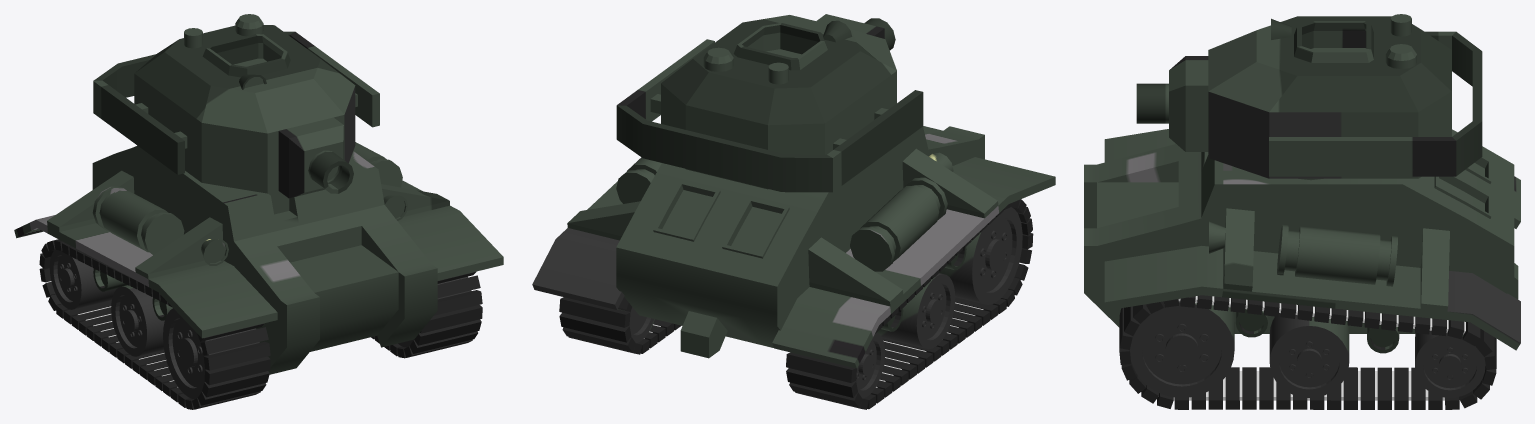
File: Tank_Body.fbx
3 renders of one model, left to right at view 1: azimuth 30°, elevation 25°; view 2: azimuth 150°, elevation 25°; view 3: azimuth 270°, elevation 25°, orthographic. The views are drawn at different scales.
Parts seen in each view (by area): view 1: TankHead, TankBody, RightDuct, LeftDuct, WheelFront, WheelMiddle, WheelBack, RightTrack007, RightTrack006, RightTrack008, LeftTrack006, RightTrack005 (+5 smaller); view 2: TankHead, TankBody, RightDuct, LeftDuct, WheelFront, WheelMiddle, WheelBack, LeftTrack031, RightTrack031, LeftTrack032, RightTrack032, RightTrack033 (+1 smaller); view 3: TankHead, TankBody, LeftDuct, WheelFront, WheelMiddle, WheelBack, RightDuct, Base, RollFront, RollBack, LeftTrack038, LeftTrack047 (+6 smaller).
Boxes of the visible parts, <box> form: TankHead: <box>93,14,379,198</box>; TankBody: <box>92,145,437,374</box>; RightDuct: <box>14,170,277,338</box>; LeftDuct: <box>353,142,503,280</box>; WheelFront: <box>163,276,471,399</box>; WheelMiddle: <box>111,285,164,356</box>; WheelBack: <box>49,250,116,309</box>; RightTrack007: <box>204,341,270,370</box>; RightTrack006: <box>204,356,270,385</box>; RightTrack008: <box>200,327,268,355</box>; LeftTrack006: <box>420,305,482,333</box>; RightTrack005: <box>202,371,269,397</box>; TankHead: <box>616,14,923,192</box>; TankBody: <box>616,126,984,358</box>; RightDuct: <box>772,148,1055,368</box>; LeftDuct: <box>532,157,661,309</box>; WheelFront: <box>939,207,1022,304</box>; WheelMiddle: <box>877,273,955,349</box>; WheelBack: <box>618,307,884,398</box>; LeftTrack031: <box>559,297,630,327</box>; RightTrack031: <box>786,352,856,382</box>; LeftTrack032: <box>559,312,631,342</box>; RightTrack032: <box>786,368,857,397</box>; RightTrack033: <box>789,382,862,407</box>; TankHead: <box>1136,14,1482,178</box>; TankBody: <box>1084,129,1518,333</box>; LeftDuct: <box>1104,208,1520,350</box>; WheelFront: <box>1130,301,1234,397</box>; WheelMiddle: <box>1269,313,1349,397</box>; WheelBack: <box>1415,330,1485,397</box>; RightDuct: <box>1104,129,1520,228</box>; Base: <box>1173,296,1465,400</box>; RollFront: <box>1235,309,1267,337</box>; RollBack: <box>1367,325,1399,353</box>; LeftTrack038: <box>1394,367,1408,409</box>; LeftTrack047: <box>1242,367,1256,409</box>.
Size of the model in its own units: 1301 by 1130 by 1473.
